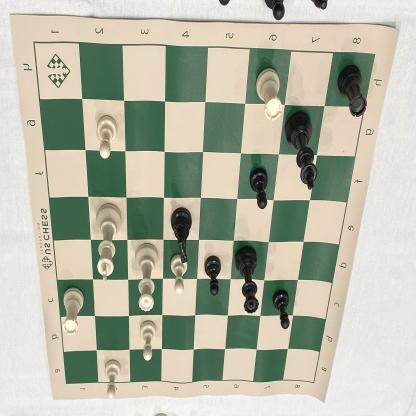black-king: (286, 110, 316, 192)
black-knight: (169, 206, 195, 264)
black-pawn: (249, 169, 270, 211), (271, 289, 291, 331), (203, 254, 221, 297)
black-queen: (233, 246, 260, 317)
black-rook: (338, 63, 368, 120)
white-king: (94, 201, 122, 283)
white-pawn: (94, 113, 118, 162), (137, 318, 158, 363), (103, 358, 122, 400), (170, 254, 188, 295)
white-queen: (134, 243, 161, 313)
white-rook: (254, 67, 282, 123), (60, 286, 86, 338)
